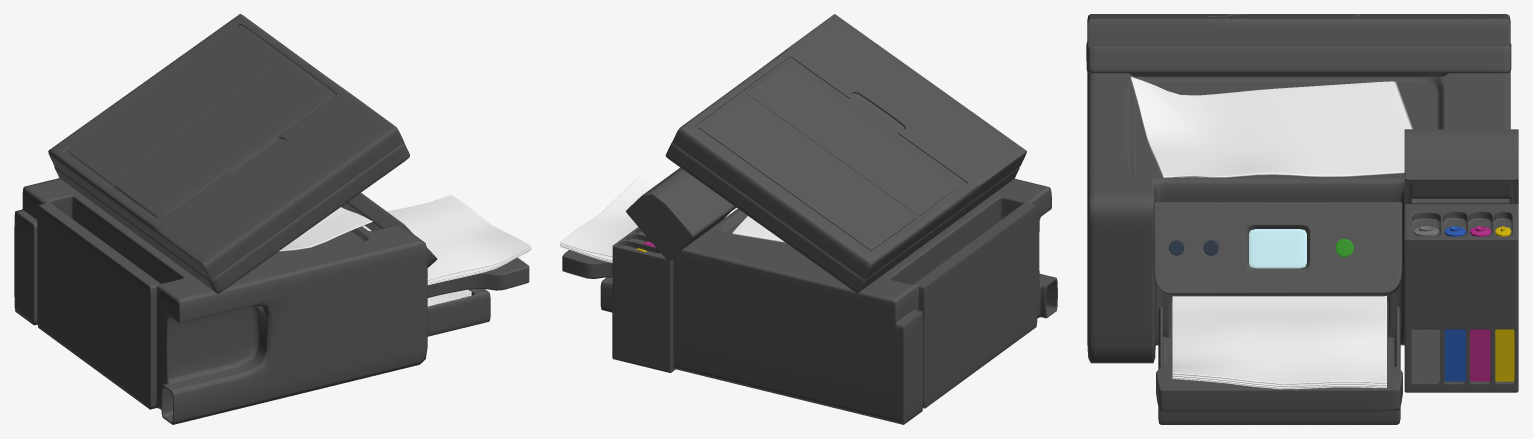
The model's file is Scanner.fbx.
The picture shows the model from 3 angles, left to right: view 1: azimuth 30°, elevation 25°; view 2: azimuth 150°, elevation 25°; view 3: azimuth 270°, elevation 25°; orthographic projection. The views are drawn at different scales.
Parts seen in each view (by area): view 1: Object_9, Object_7, Object_12, Object_8, Object_13; view 2: Object_7, Object_9, Object_4, Object_12, Object_8, Object_13; view 3: Object_9, Object_7, Object_8, Object_13, Object_12, Object_4, Object_15, Object_17, Object_18, Object_19, Object_3.
Part boxes in pixels (x1,y1,x2,y2): Object_9: (14, 178, 427, 424); Object_7: (48, 14, 409, 293); Object_12: (362, 195, 531, 280); Object_8: (341, 193, 529, 336); Object_13: (278, 207, 531, 285); Object_7: (626, 14, 1026, 292); Object_9: (673, 178, 1057, 424); Object_4: (612, 227, 675, 372); Object_12: (560, 177, 736, 256); Object_8: (562, 207, 736, 312); Object_13: (560, 216, 785, 262); Object_9: (1087, 72, 1510, 363); Object_7: (1086, 14, 1518, 203); Object_8: (1153, 202, 1402, 424); Object_13: (1130, 77, 1412, 389); Object_12: (1172, 296, 1386, 384); Object_4: (1404, 204, 1518, 392); Object_15: (1249, 229, 1306, 268); Object_17: (1411, 226, 1440, 381); Object_18: (1444, 226, 1466, 381); Object_19: (1469, 226, 1491, 381); Object_3: (1495, 226, 1514, 381).
Bounding box in the file's own units: 76.5 × 45.98 × 54.29.
